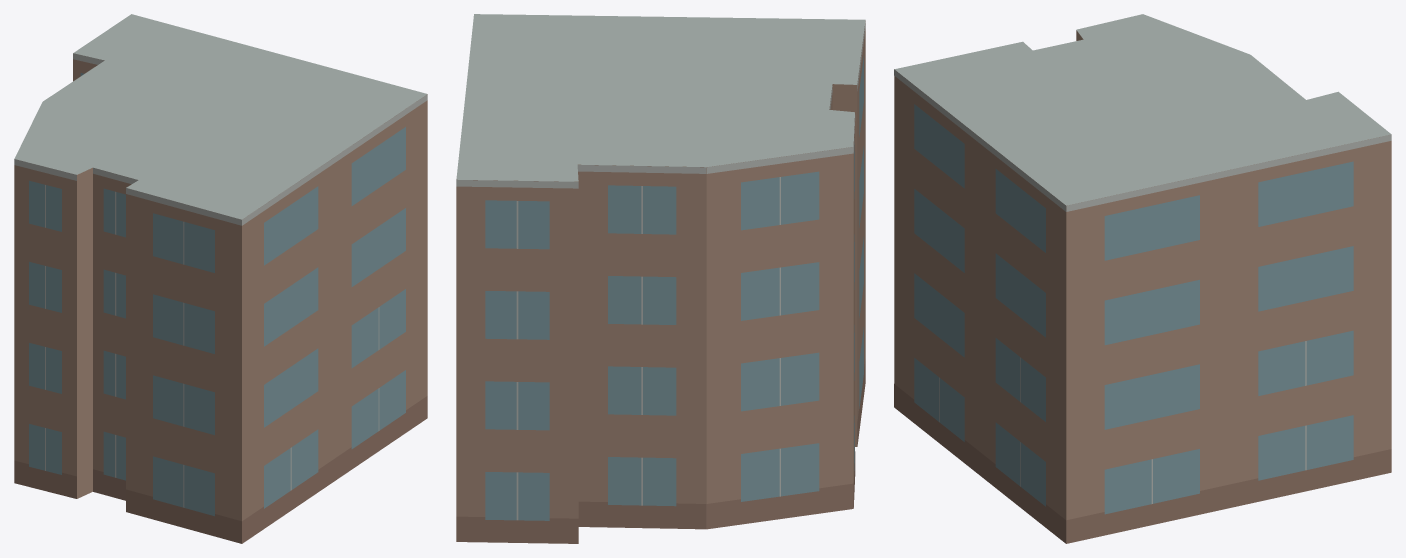
File: survey-upis-32916302.glb
The picture shows the model from 3 angles, left to right: view 1: azimuth 30°, elevation 25°; view 2: azimuth 150°, elevation 25°; view 3: azimuth 270°, elevation 25°; orthographic projection. The views are drawn at different scales.
Parts seen in each view (by area): view 1: survey-upis-32916302.tmp; view 2: survey-upis-32916302.tmp; view 3: survey-upis-32916302.tmp.
Part boxes in pixels (box(x1,y1,x2,y2)): survey-upis-32916302.tmp: box(14, 14, 427, 543); survey-upis-32916302.tmp: box(456, 14, 865, 543); survey-upis-32916302.tmp: box(894, 14, 1391, 543).
Bounding box in the file's own units: 15.81 × 13 × 17.34.
